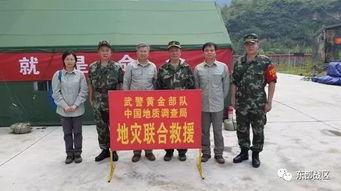up: (43, 48, 92, 168), (236, 29, 275, 166), (88, 33, 127, 166), (192, 36, 229, 164), (157, 33, 192, 160), (126, 38, 159, 158)
